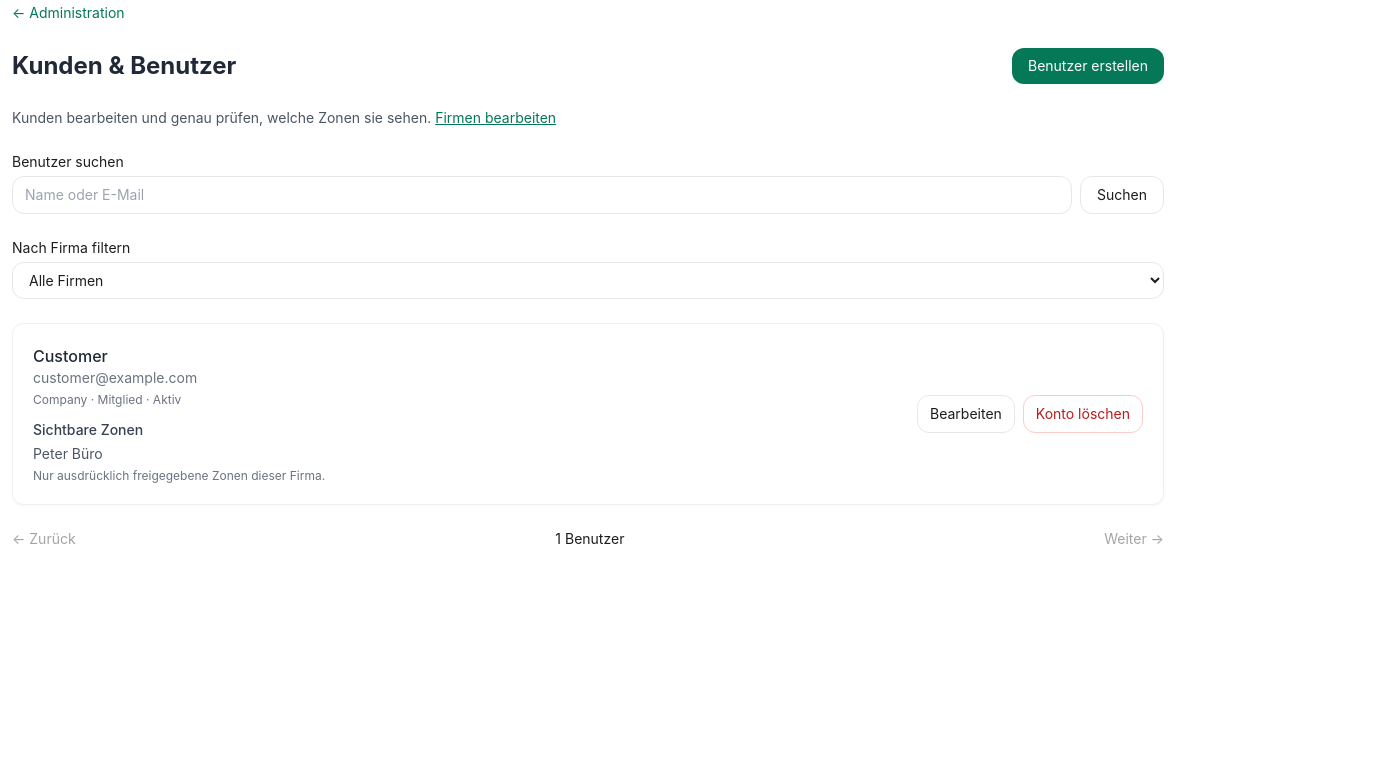
Test: shows effective zones and requires email confirmation before deletion
Expected: the text "Peter Büro" is shown, [33,445,103,462]
Click the button "Konto löschen" at [1083, 414], box [1023,395,1143,433]
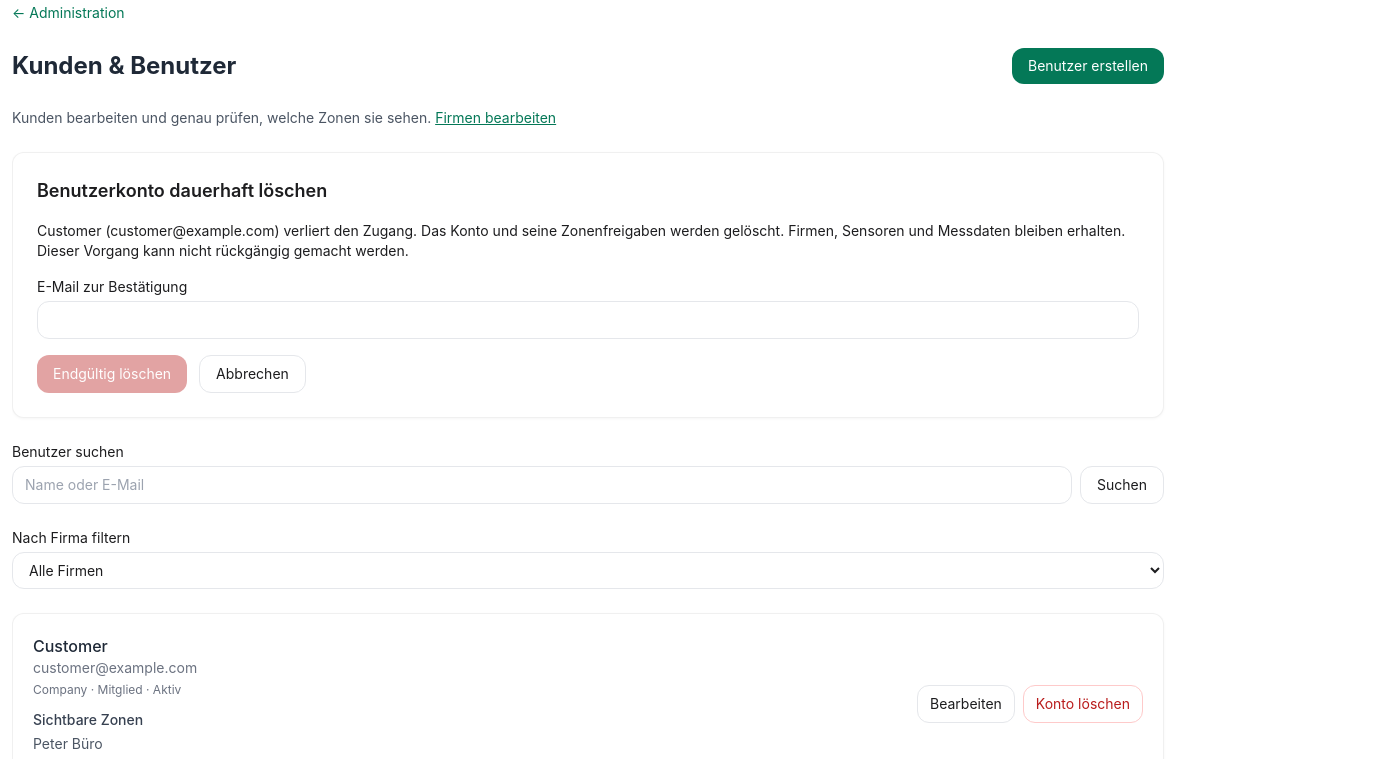
Now the button "Endgültig löschen" is disabled, box [37,355,187,393]
Type "wrong@example.com" into the field labelled "E-Mail zur Bestätigung" at [588, 320], box [37,301,1139,339]
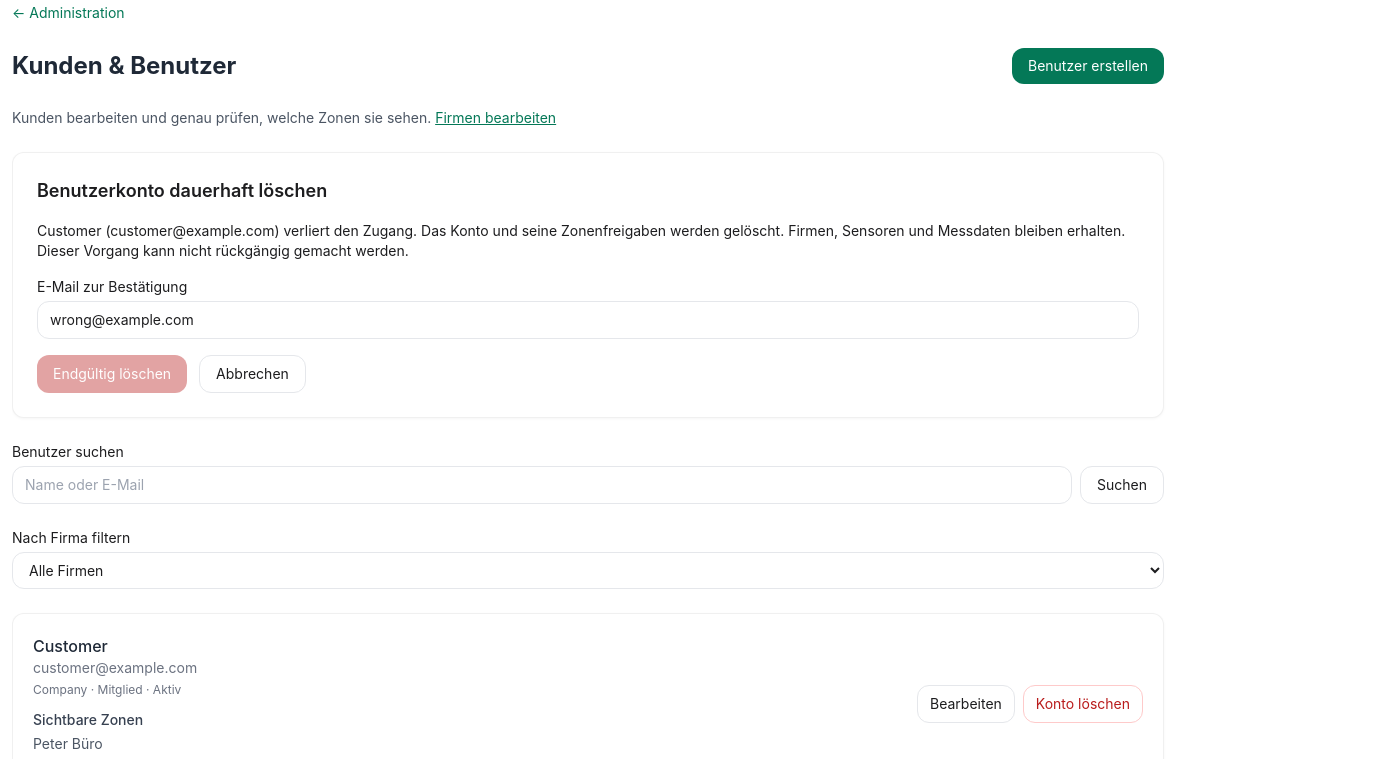
Now the button "Endgültig löschen" is disabled, box [37,355,187,393]
Replace the text in the field labelled "E-Mail zur Bestätigung" with "customer@example.com" at [588, 320], box [37,301,1139,339]
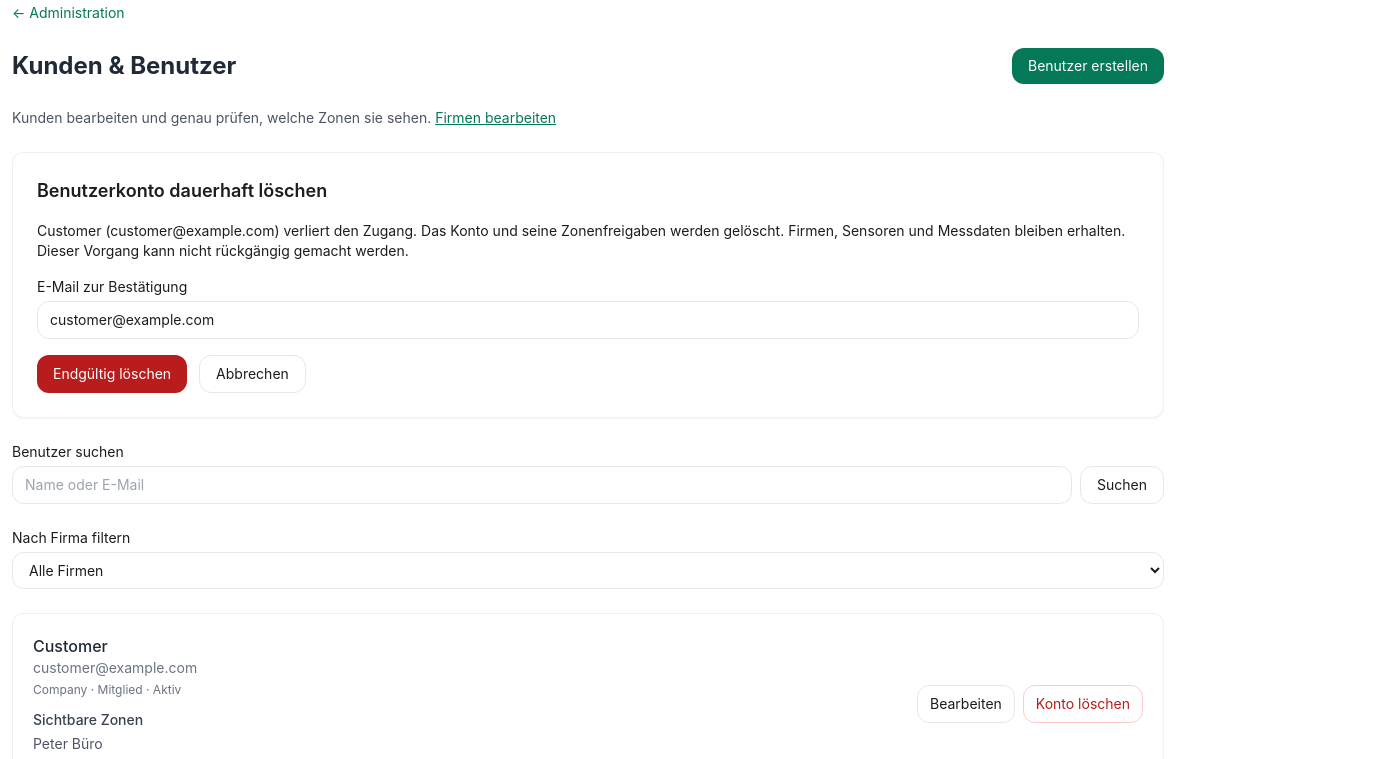
Click the button "Endgültig löschen" at [112, 374], box [37,355,187,393]
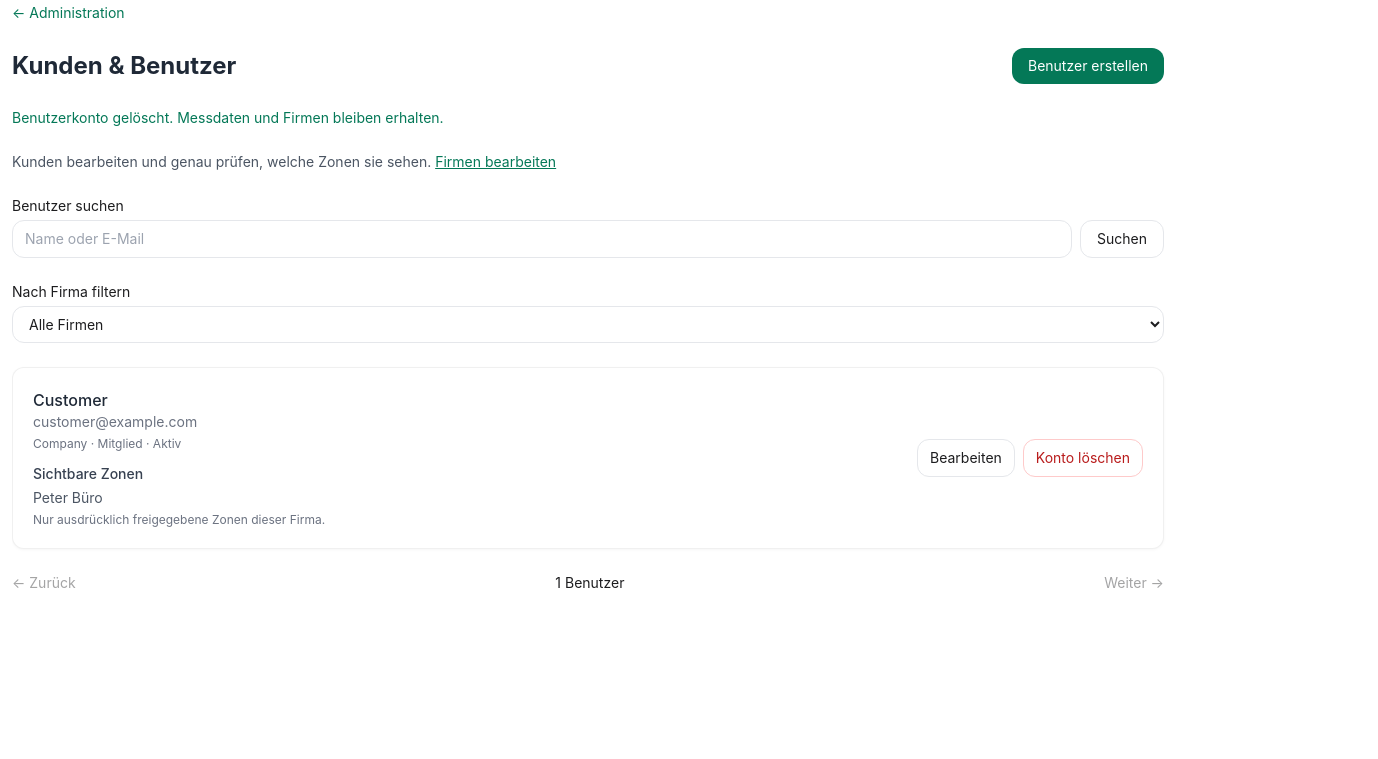
Now the text "Benutzerkonto gelöscht. Messdaten und Firmen bleiben erhalten." is shown, box [12,109,444,126]
